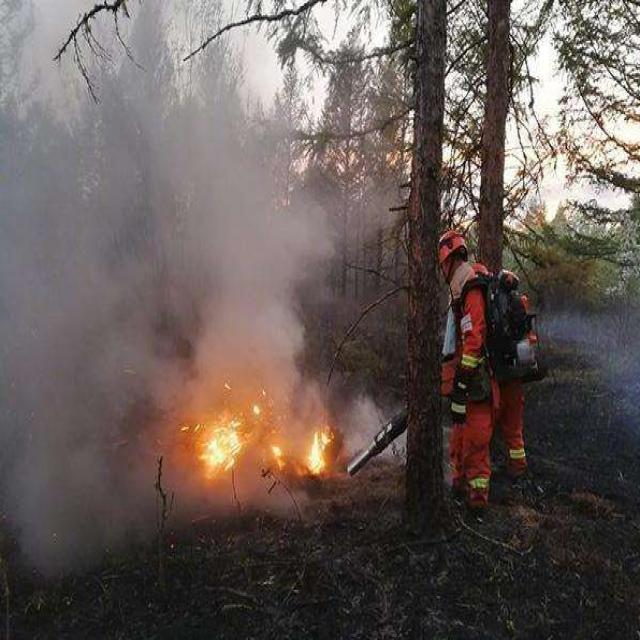Fire: (196, 425, 242, 470), (305, 426, 327, 474)
Smoke: (1, 83, 156, 558), (182, 98, 326, 391)
